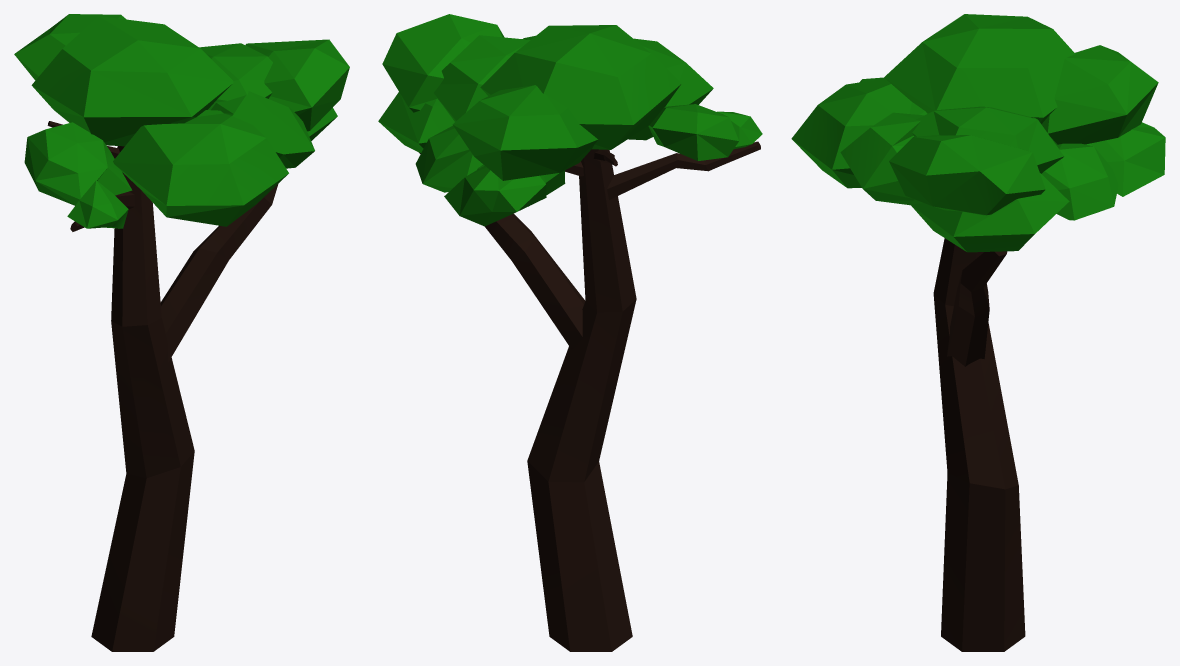
The model's file is treetwo.dae.
3 views of the same model, side by side, from view 1: azimuth 30°, elevation 25°; view 2: azimuth 150°, elevation 25°; view 3: azimuth 270°, elevation 25° (orthographic). The views are drawn at different scales.
Parts seen in each view (by area): view 1: Sphere_Sphere_001, Cylinder_001; view 2: Sphere_Sphere_001, Cylinder_001; view 3: Sphere_Sphere_001, Cylinder_001.
Part boxes in pixels (<box>): Sphere_Sphere_001: <box>14,14,349,228</box>; Cylinder_001: <box>47,121,278,651</box>; Sphere_Sphere_001: <box>378,14,762,226</box>; Cylinder_001: <box>419,141,760,651</box>; Sphere_Sphere_001: <box>791,14,1165,252</box>; Cylinder_001: <box>933,238,1025,651</box>.
Bounding box in the file's own units: 82.78 × 148 × 82.59.
